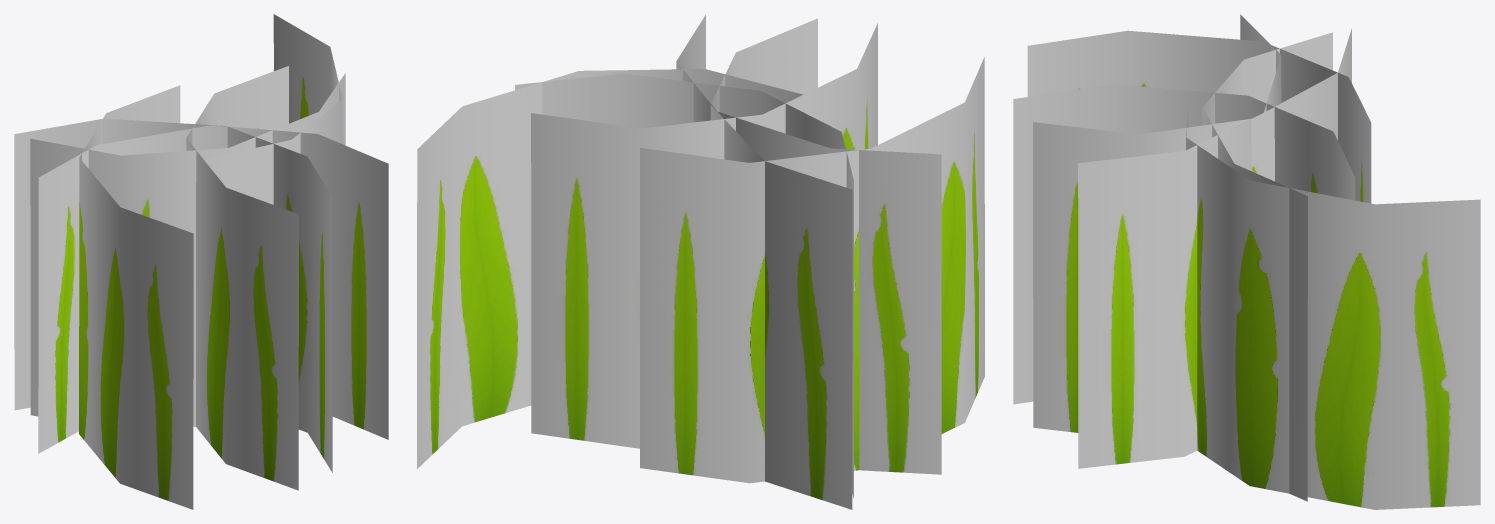
The model's file is Grass.fbx.
3 renders of one model, left to right at view 1: azimuth 30°, elevation 25°; view 2: azimuth 150°, elevation 25°; view 3: azimuth 270°, elevation 25°, orthographic. The views are drawn at different scales.
Visible parts, largest first — view 1: Plane1487; view 2: Plane1487; view 3: Plane1487.
Part boxes in pixels (box(x1,y1,x2,y2)): Plane1487: box(14, 14, 388, 509); Plane1487: box(417, 15, 984, 509); Plane1487: box(1013, 14, 1480, 509).
Bounding box in the file's own units: 69.89 × 52.28 × 72.5.
Materials: 1 (1 with a texture image).
